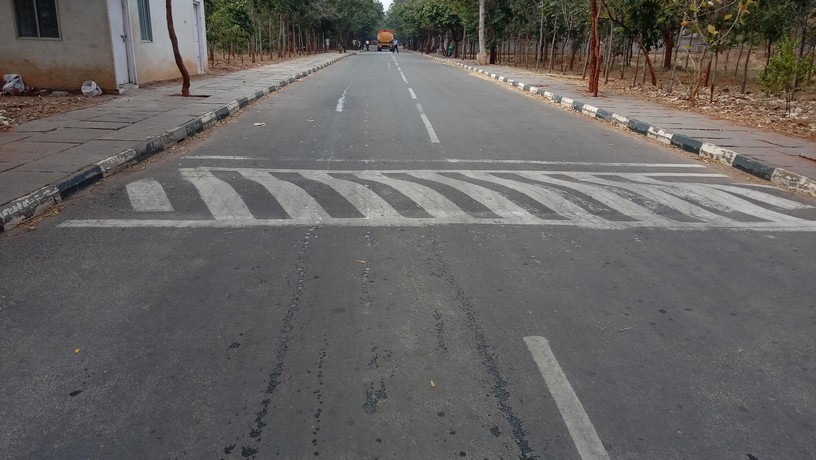bump: (57, 156, 816, 230)
